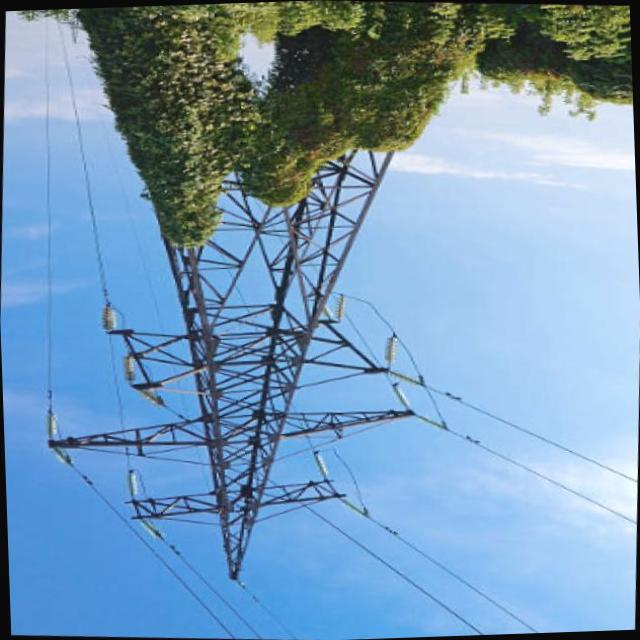critical vegetation: (73, 27, 426, 584), (80, 27, 458, 316)
